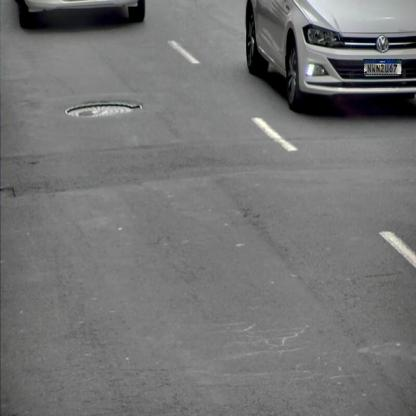PlacaM: (363, 59, 402, 75)
